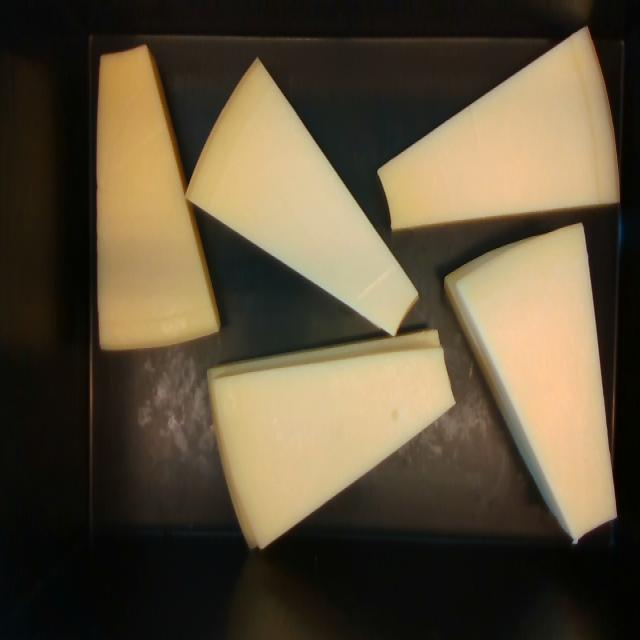Cheese: (185, 61, 414, 332), (457, 225, 617, 539), (210, 345, 453, 548), (378, 29, 618, 229), (97, 47, 218, 347)
